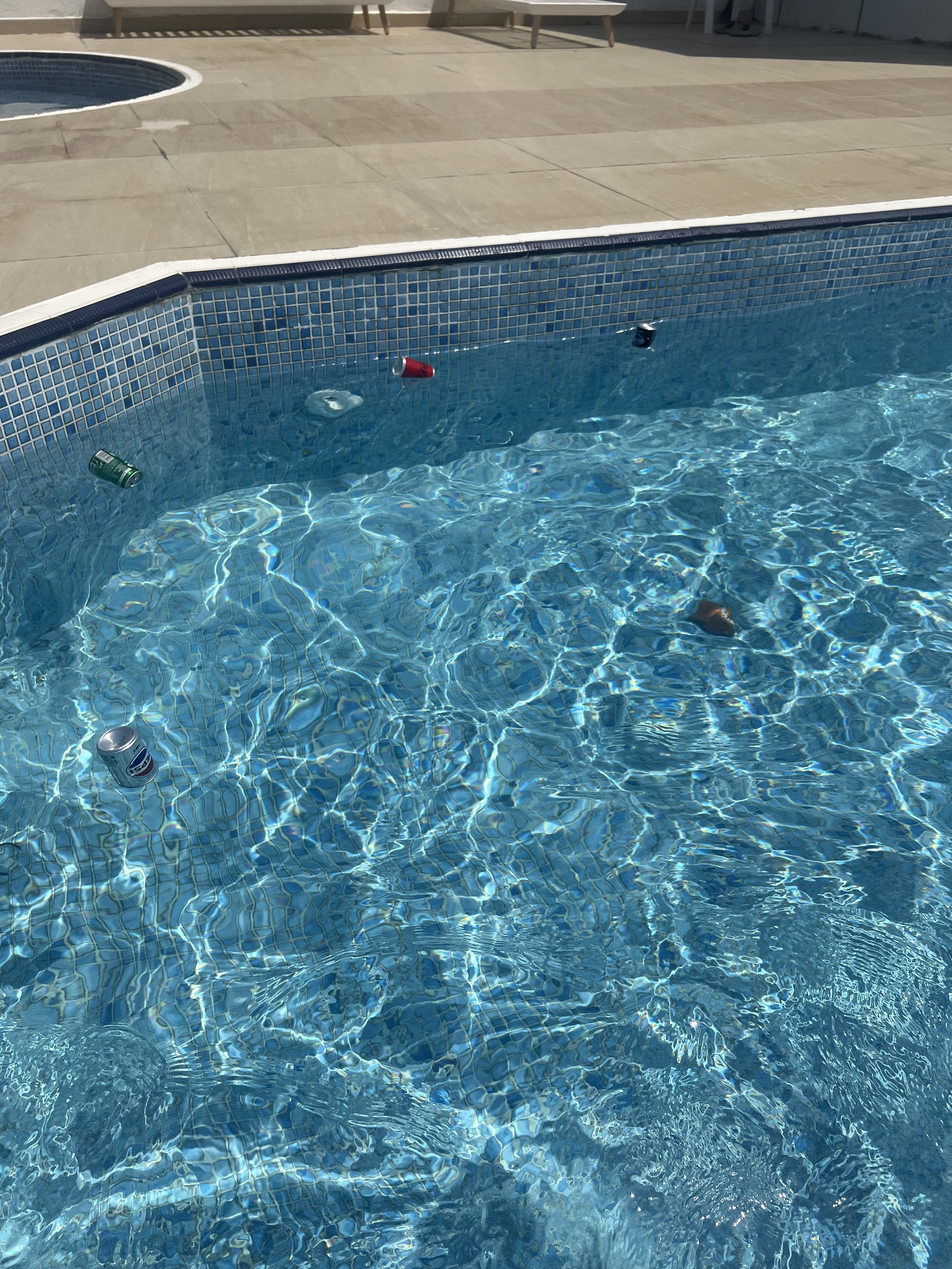debris: (94, 715, 157, 801), (84, 430, 143, 509), (388, 344, 438, 393), (630, 313, 656, 366)
